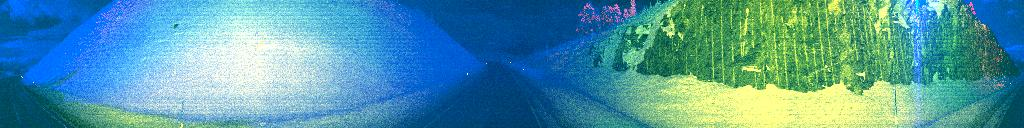pole: (891, 79, 900, 128), (177, 97, 187, 128)
